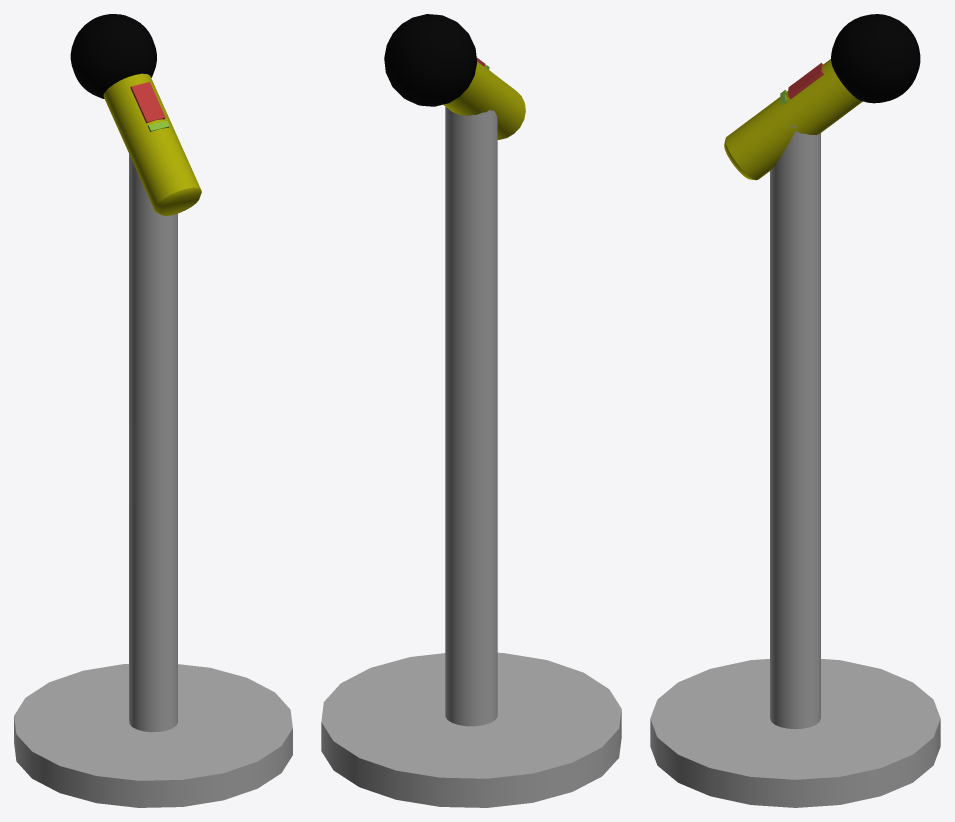
Rendered from micNstand.fbx.
The picture shows the model from 3 angles, left to right: view 1: azimuth 30°, elevation 25°; view 2: azimuth 150°, elevation 25°; view 3: azimuth 270°, elevation 25°; orthographic projection. The views are drawn at different scales.
Visible parts, largest first — view 1: pCylinder1, pCylinder2, pCylinder3, pSphere1, pCube48; view 2: pCylinder1, pCylinder2, pSphere1, pCylinder3; view 3: pCylinder1, pCylinder2, pCylinder3, pSphere1.
Part boxes in pixels (bbox=[...]): pCylinder1: bbox=[14, 664, 292, 807]; pCylinder2: bbox=[129, 154, 177, 732]; pCylinder3: bbox=[103, 73, 201, 215]; pSphere1: bbox=[70, 14, 156, 98]; pCube48: bbox=[130, 82, 165, 123]; pCylinder1: bbox=[321, 652, 621, 807]; pCylinder2: bbox=[445, 107, 497, 726]; pSphere1: bbox=[384, 14, 476, 106]; pCylinder3: bbox=[443, 61, 525, 139]; pCylinder1: bbox=[650, 659, 940, 807]; pCylinder2: bbox=[770, 125, 820, 729]; pCylinder3: bbox=[724, 59, 862, 180]; pSphere1: bbox=[831, 14, 920, 103].
Size of the model in its own units: 2 by 5.53 by 2.
